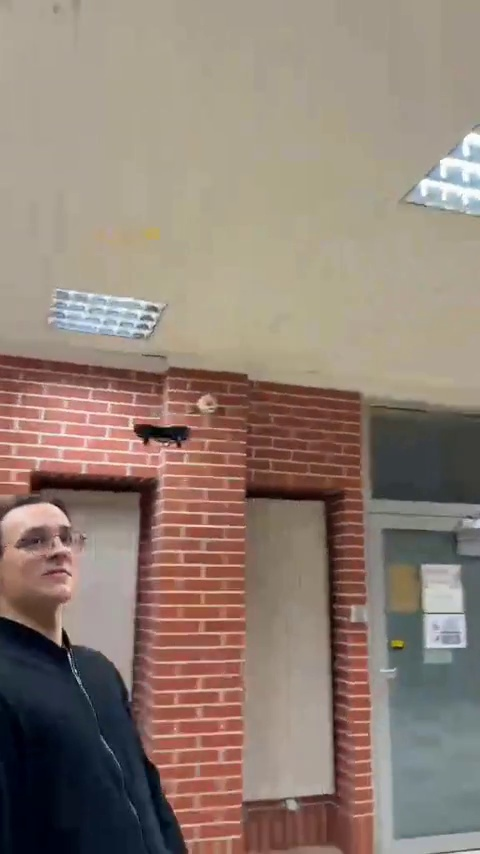drone: (135, 420, 195, 443)
no vest: (0, 491, 192, 854)
